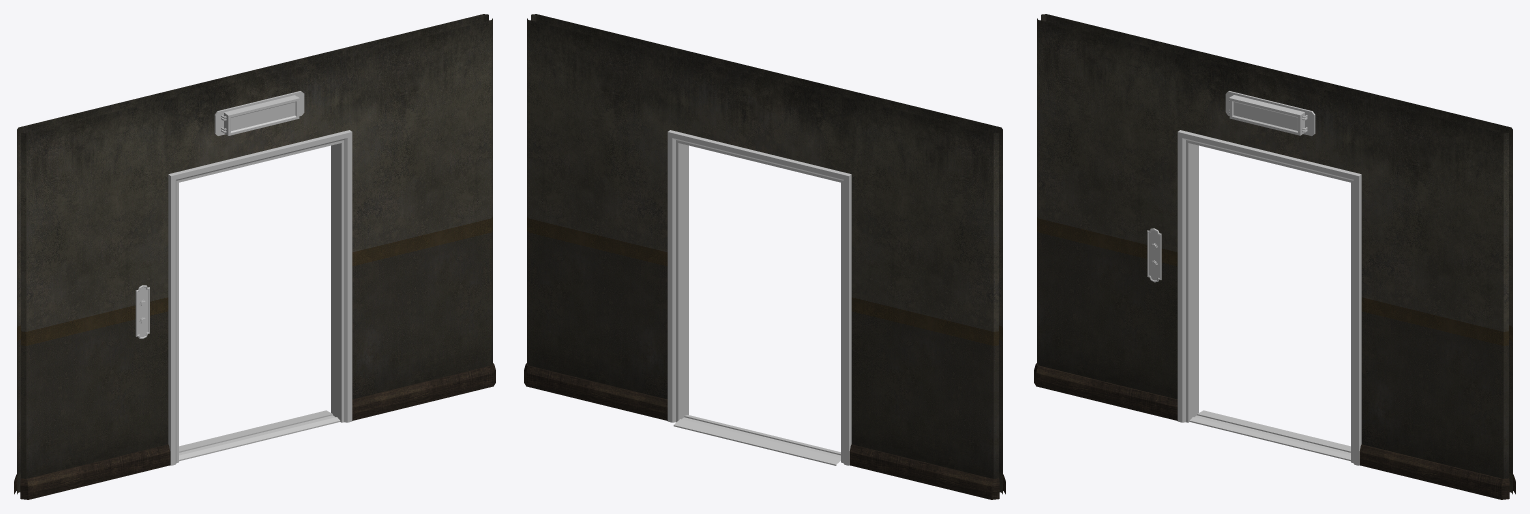
File: elevator_doorway_1.fbx
The picture shows the model from 3 angles, left to right: view 1: azimuth 30°, elevation 25°; view 2: azimuth 150°, elevation 25°; view 3: azimuth 330°, elevation 25°; orthographic projection.
Parts seen in each view (by area): view 1: elevator_doorway_1; view 2: elevator_doorway_1; view 3: elevator_doorway_1.
Boxes of the visible parts, <box> form: elevator_doorway_1: <box>14,14,495,499</box>; elevator_doorway_1: <box>524,14,1005,499</box>; elevator_doorway_1: <box>1034,14,1515,499</box>.
Size of the model in its own units: 4.09 by 0.29 by 3.
